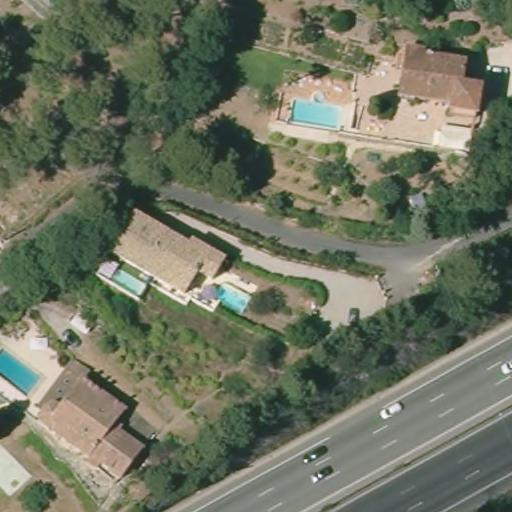pool: (279, 85, 348, 131), (0, 344, 44, 396), (100, 261, 152, 299), (209, 278, 254, 313)
